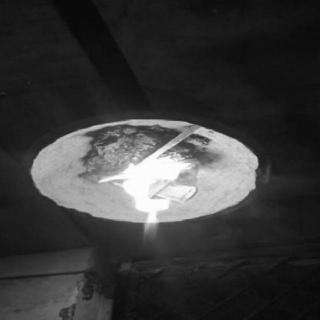Fire: (107, 152, 200, 242)
